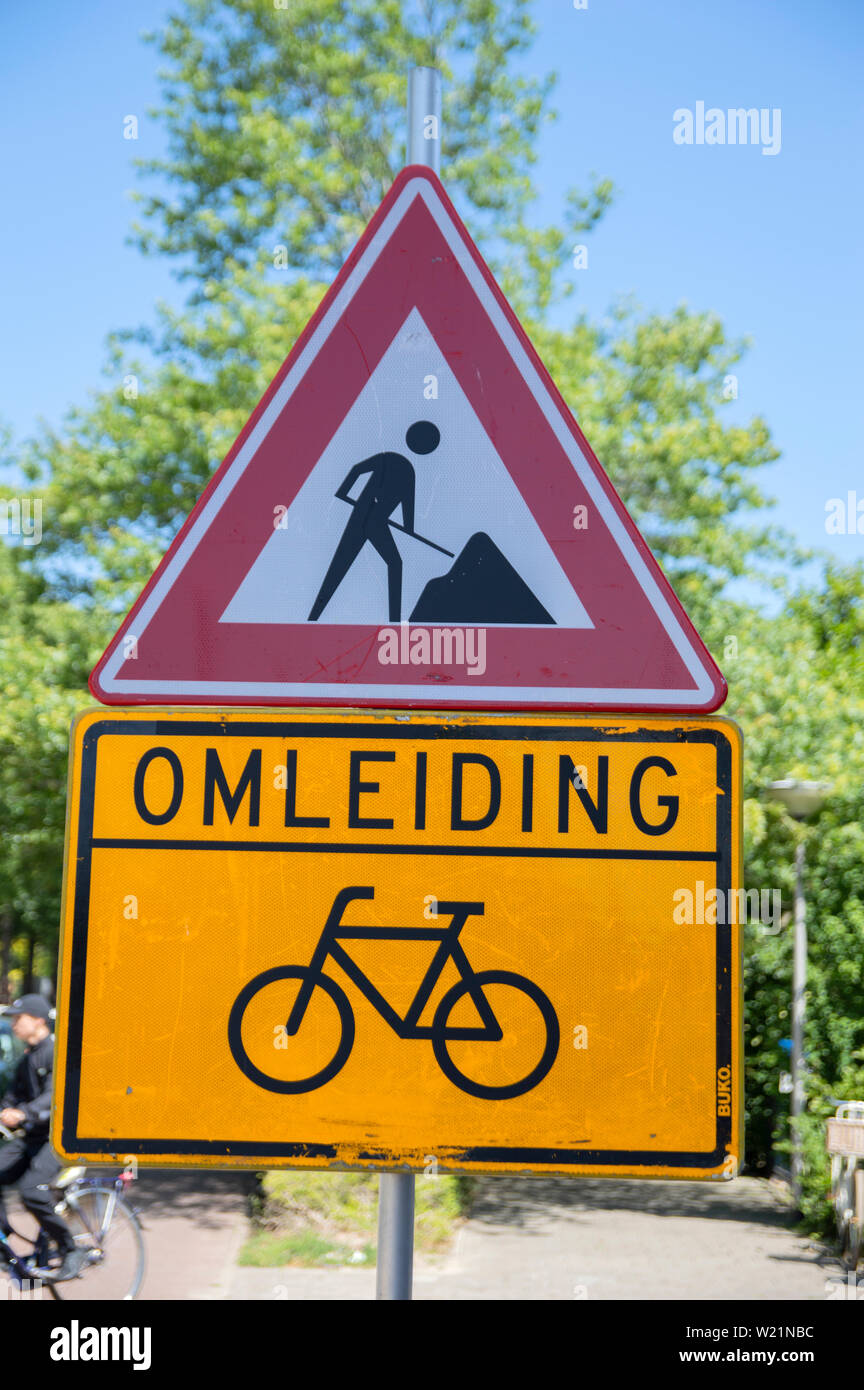bike: (90, 166, 725, 704)
